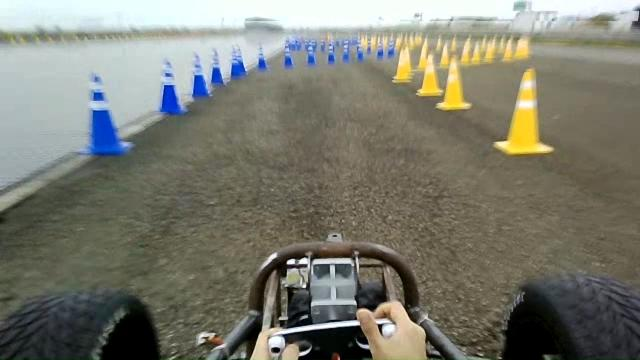blue cone: (77, 72, 133, 156), (158, 58, 186, 114), (190, 53, 212, 99), (229, 43, 247, 78), (209, 48, 225, 86), (256, 44, 268, 70), (284, 38, 294, 68), (306, 42, 316, 64), (376, 35, 384, 59), (342, 40, 350, 62), (387, 38, 395, 58), (327, 44, 335, 63)
yellow cone: (494, 67, 554, 155), (435, 56, 472, 111), (415, 54, 443, 97), (391, 46, 413, 83), (397, 46, 412, 72), (440, 42, 450, 68), (470, 41, 480, 64)
